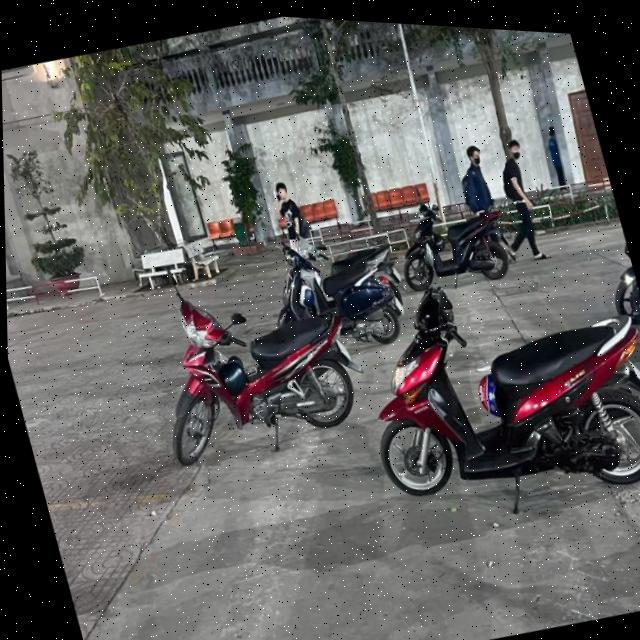motorcycle: (335, 230, 640, 556), (129, 257, 380, 483), (258, 218, 410, 370), (385, 181, 521, 303)
